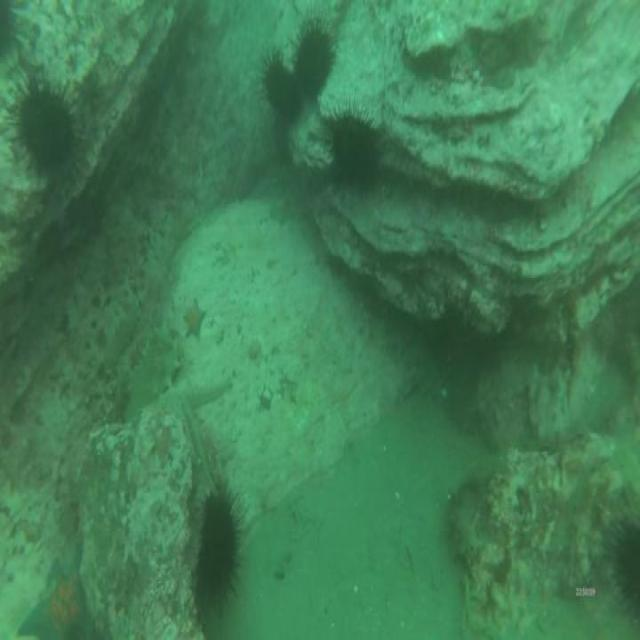echinus: (8, 63, 85, 182), (196, 476, 248, 616), (327, 96, 385, 196), (606, 506, 640, 622), (292, 14, 335, 100), (258, 46, 302, 122), (0, 0, 18, 70)
starfish: (17, 567, 86, 640), (179, 292, 209, 343)
